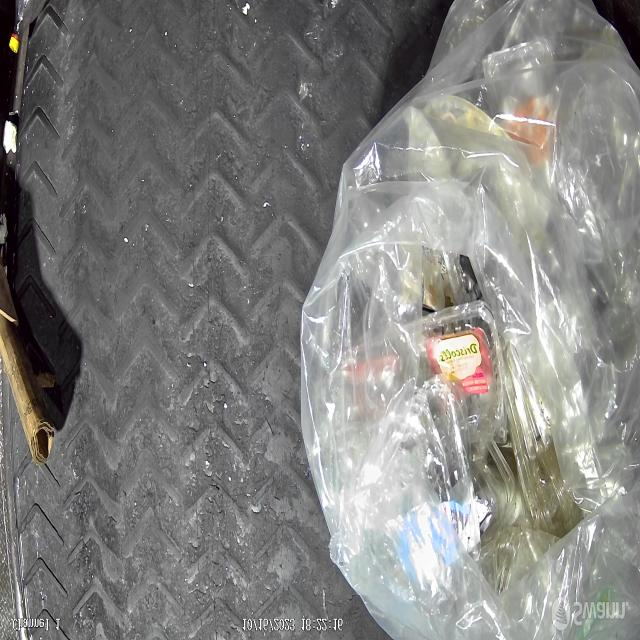plastic_bottle: (10, 0, 48, 54)
